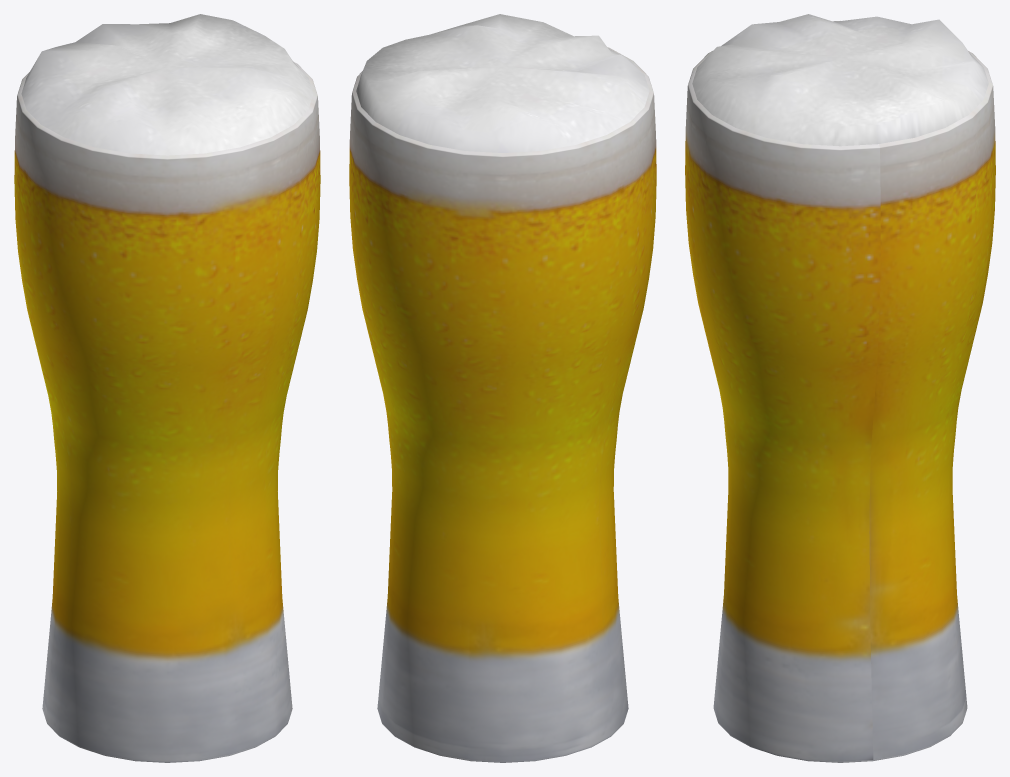
File: Beer01_1.FBX
3 renders of one model, left to right at view 1: azimuth 30°, elevation 25°; view 2: azimuth 150°, elevation 25°; view 3: azimuth 270°, elevation 25°, orthographic.
Visible parts, largest first — view 1: Beer01_1; view 2: Beer01_1; view 3: Beer01_1.
Boxes of the visible parts, x1,y1,x2,y2 form: Beer01_1: [14, 14, 320, 762]; Beer01_1: [349, 14, 656, 762]; Beer01_1: [685, 14, 995, 762].
Size of the model in its own units: 3.7 by 8.67 by 3.7.
